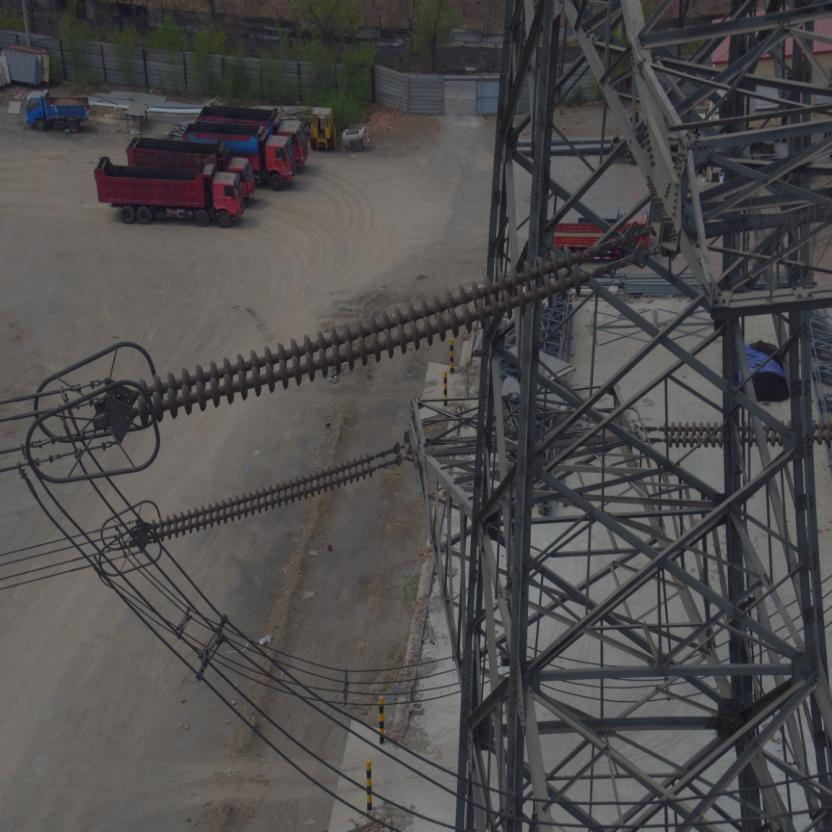insulator: (120, 237, 614, 432), (142, 449, 384, 545)
